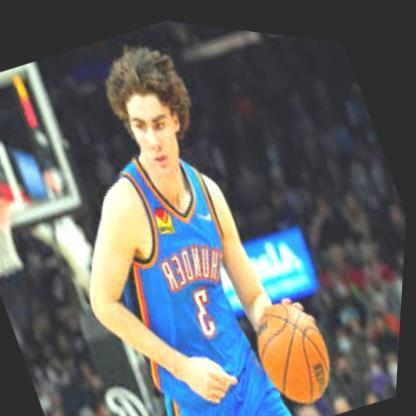basketball: (245, 279, 351, 408)
